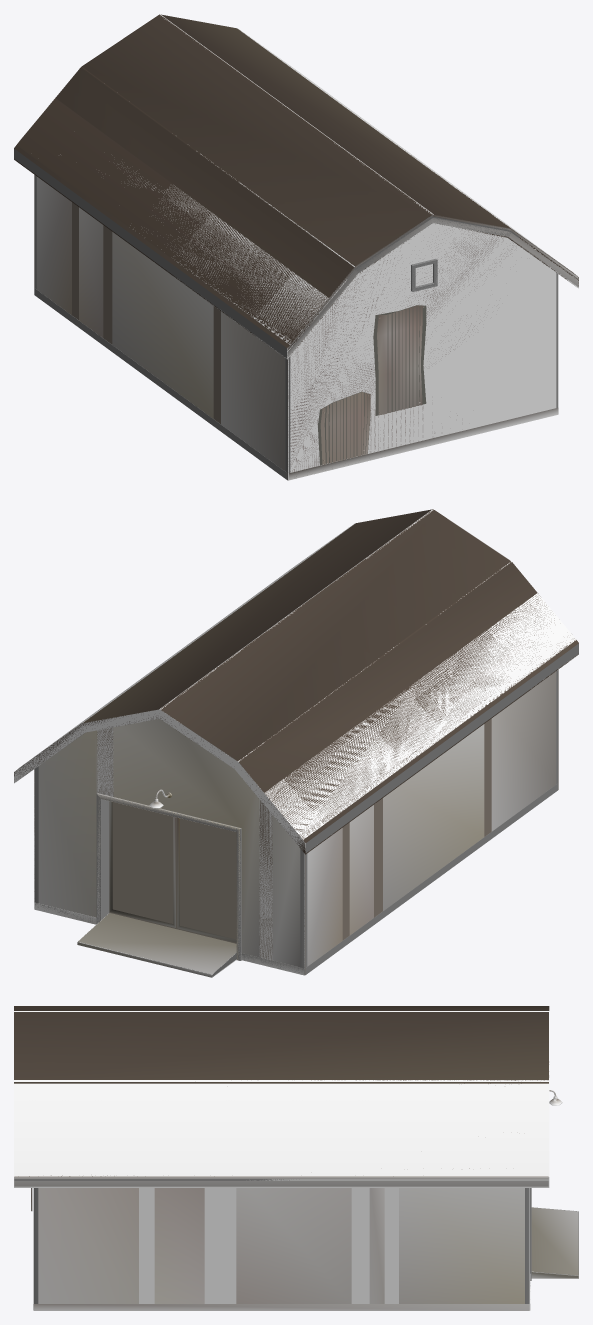
Rendered from s_settlement_barn.dae.
3 views of the same model, one above another, from view 1: azimuth 30°, elevation 25°; view 2: azimuth 150°, elevation 25°; view 3: azimuth 270°, elevation 25° (orthographic). The views are drawn at different scales.
Visible parts, largest first — view 1: settlement_barn_L30, Colmesh_settlement_barn-1, settlement_barn_L10, settlement_barn_L200, settlement_barn_L800; view 2: settlement_barn_L30, settlement_barn_L800, Colmesh_settlement_barn-1, settlement_barn_L200, settlement_barn_L10; view 3: settlement_barn_L200, Colmesh_settlement_barn-1, settlement_barn_L800, settlement_barn_L30.
Part boxes in pixels (bbox=[...]): settlement_barn_L30: bbox=[14, 15, 575, 480]; Colmesh_settlement_barn-1: bbox=[60, 14, 578, 480]; settlement_barn_L10: bbox=[14, 14, 578, 479]; settlement_barn_L200: bbox=[161, 14, 558, 473]; settlement_barn_L800: bbox=[287, 214, 578, 480]; settlement_barn_L30: bbox=[18, 510, 578, 977]; settlement_barn_L800: bbox=[34, 719, 303, 977]; Colmesh_settlement_barn-1: bbox=[14, 509, 578, 976]; settlement_barn_L200: bbox=[34, 509, 431, 975]; settlement_barn_L10: bbox=[14, 509, 578, 976]; settlement_barn_L200: bbox=[14, 1012, 578, 1310]; Colmesh_settlement_barn-1: bbox=[14, 1011, 578, 1310]; settlement_barn_L800: bbox=[14, 1090, 578, 1303]; settlement_barn_L30: bbox=[14, 1006, 578, 1286].
Size of the model in its own units: 665 by 1140 by 524.
